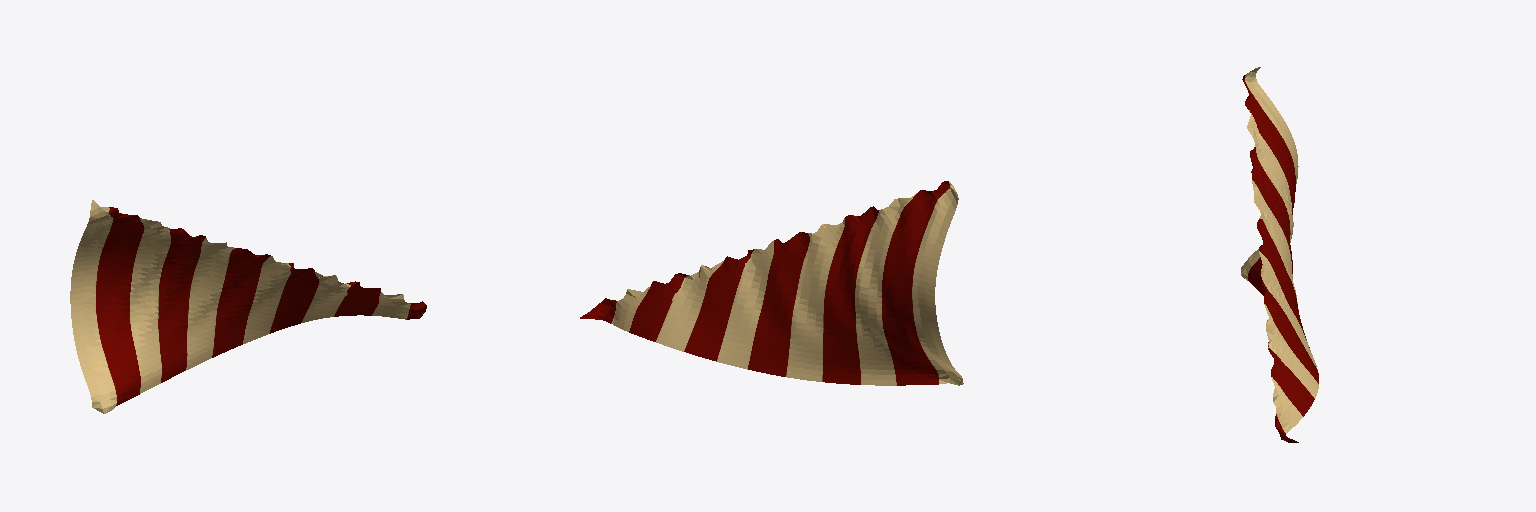
3 renders of one model, left to right at view 1: azimuth 30°, elevation 25°; view 2: azimuth 150°, elevation 25°; view 3: azimuth 270°, elevation 25°, orthographic.
Parts seen in each view (by area): view 1: polySurface1025polySurface1391polySurface1391; view 2: polySurface1025polySurface1391polySurface1391; view 3: polySurface1025polySurface1391polySurface1391.
Part boxes in pixels (left/top/right/bottom): polySurface1025polySurface1391polySurface1391: left=70, top=200, right=426, bottom=413; polySurface1025polySurface1391polySurface1391: left=580, top=181, right=963, bottom=385; polySurface1025polySurface1391polySurface1391: left=1241, top=67, right=1318, bottom=442.
Bounding box in the file's own units: 13.09 × 7.33 × 2.49.
1 materials, 1 textured.